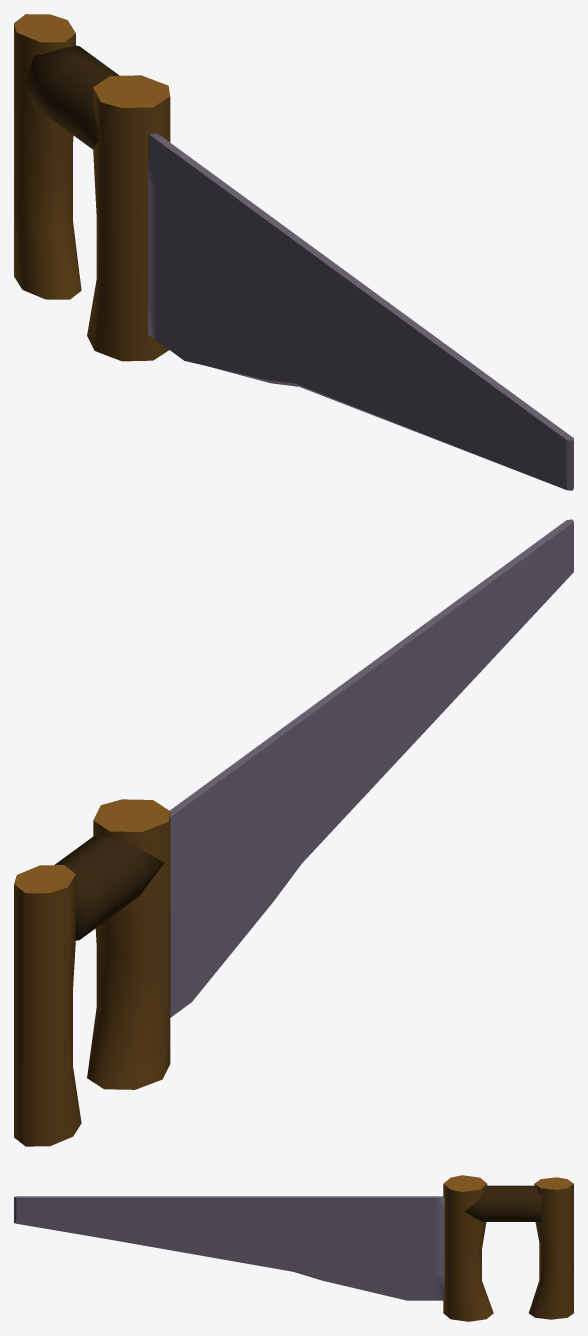
Rendered from VillagerSaw01.fbx.
3 renders of one model, top to bottom at view 1: azimuth 30°, elevation 25°; view 2: azimuth 150°, elevation 25°; view 3: azimuth 270°, elevation 25°, orthographic. The views are drawn at different scales.
Parts seen in each view (by area): view 1: VillagerSaw01; view 2: VillagerSaw01; view 3: VillagerSaw01.
Part boxes in pixels (x1,y1,x2,y2): VillagerSaw01: [14, 14, 573, 490]; VillagerSaw01: [14, 519, 573, 1146]; VillagerSaw01: [14, 1175, 573, 1321].
Size of the model in its own units: 5.9 by 21.04 by 82.35.
